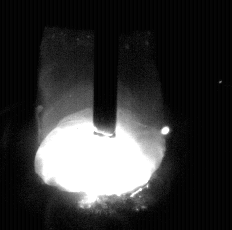arame: (94, 0, 118, 138)
poca: (38, 0, 166, 230)
